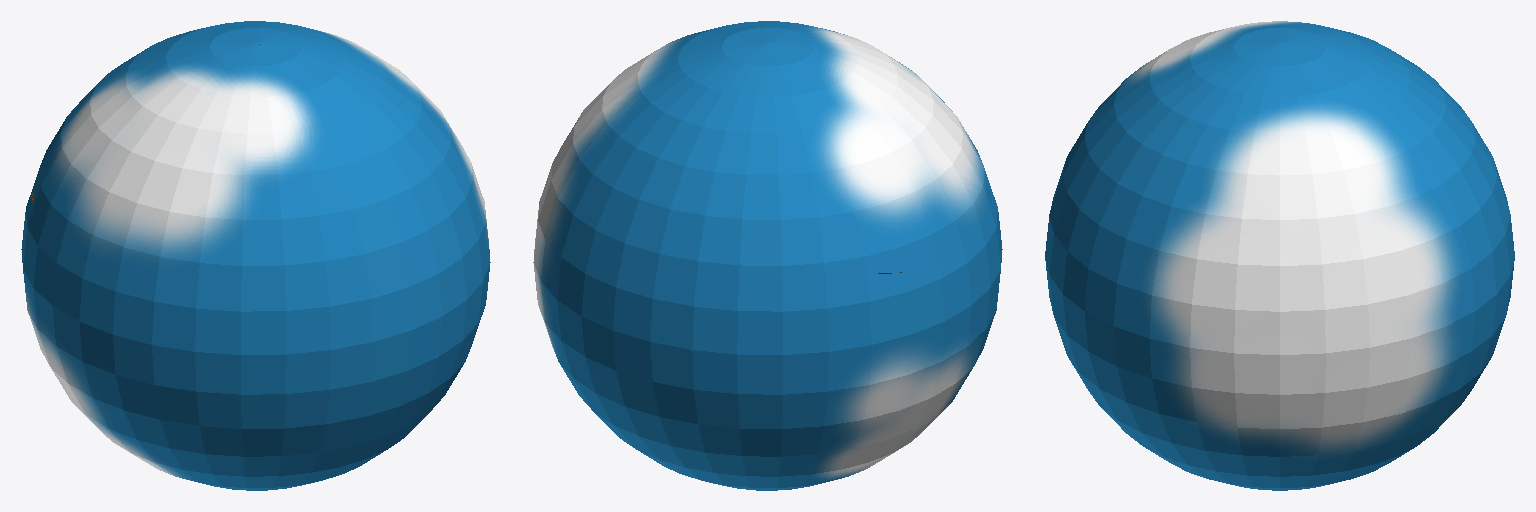
The picture shows the model from 3 angles: view 1: azimuth 30°, elevation 25°; view 2: azimuth 150°, elevation 25°; view 3: azimuth 270°, elevation 25°; orthographic projection.
Visible parts, largest first — view 1: skybox_Sphere; view 2: skybox_Sphere; view 3: skybox_Sphere.
Part boxes in pixels (x1,y1,x2,y2): skybox_Sphere: (21,21,490,490); skybox_Sphere: (533,21,1002,490); skybox_Sphere: (1045,21,1514,490).
Size of the model in its own units: 788 by 788 by 788.
Materials: 10 (7 with a texture image).